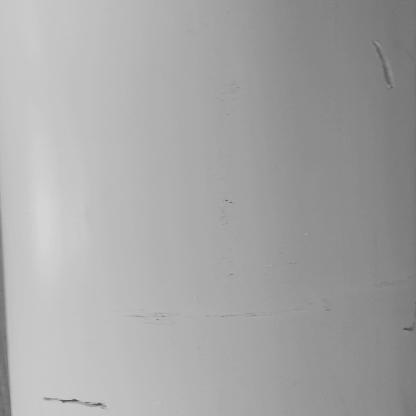fengxi: (43, 394, 105, 411)
sunshang: (373, 40, 395, 92)
